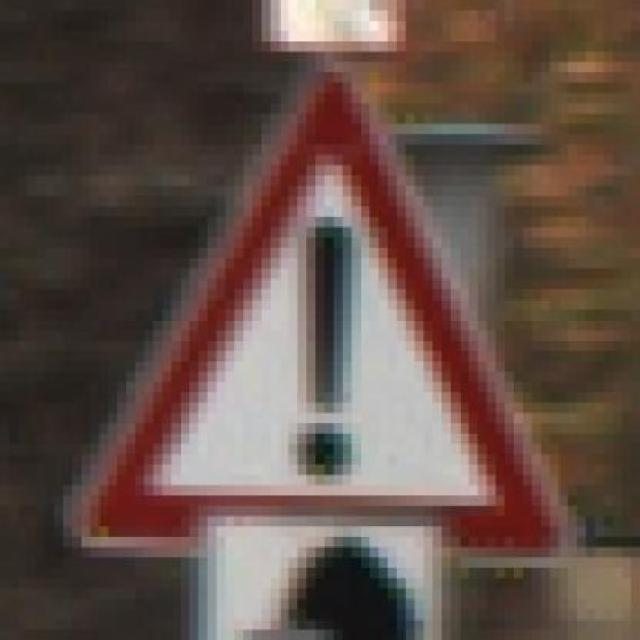Attention Please-: (44, 62, 596, 588)
